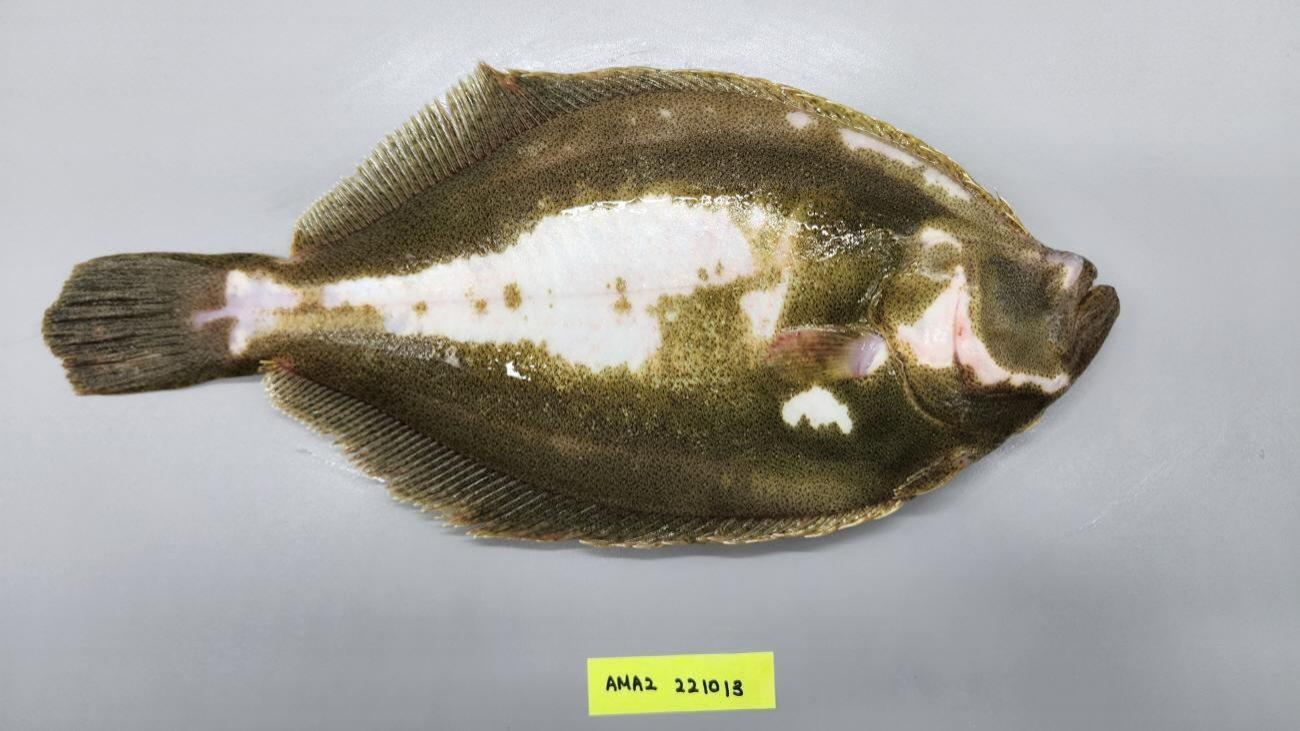MAFCH: (40, 304, 162, 391)
MAFDH: (478, 58, 563, 125)
MAOUY: (42, 58, 1120, 549)
